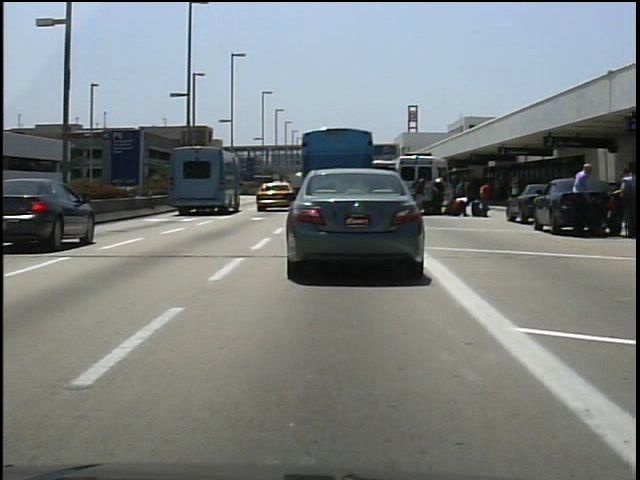person: (564, 157, 597, 240), (609, 162, 638, 240), (412, 171, 431, 219), (452, 174, 472, 219), (429, 173, 449, 218), (478, 179, 496, 220)
